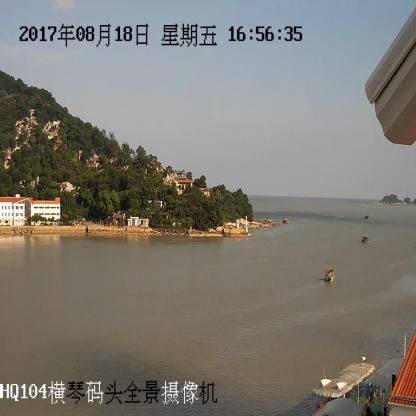Fishing Boat: (324, 265, 334, 282)
